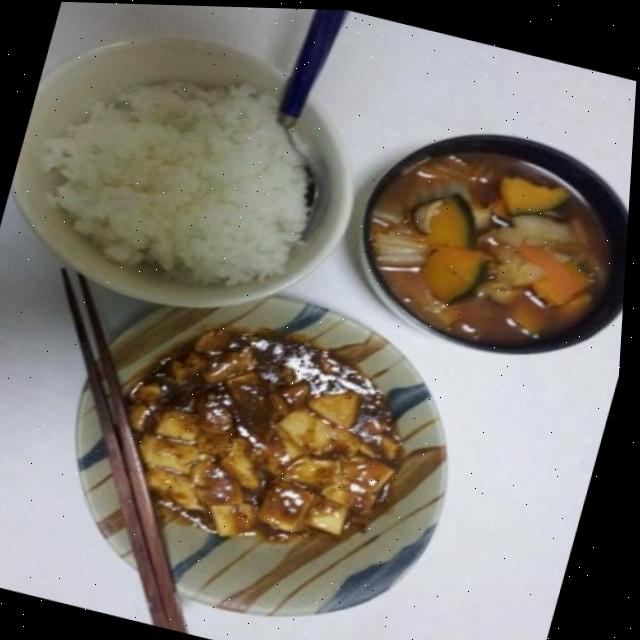米饭主食: (0, 0, 402, 351)
